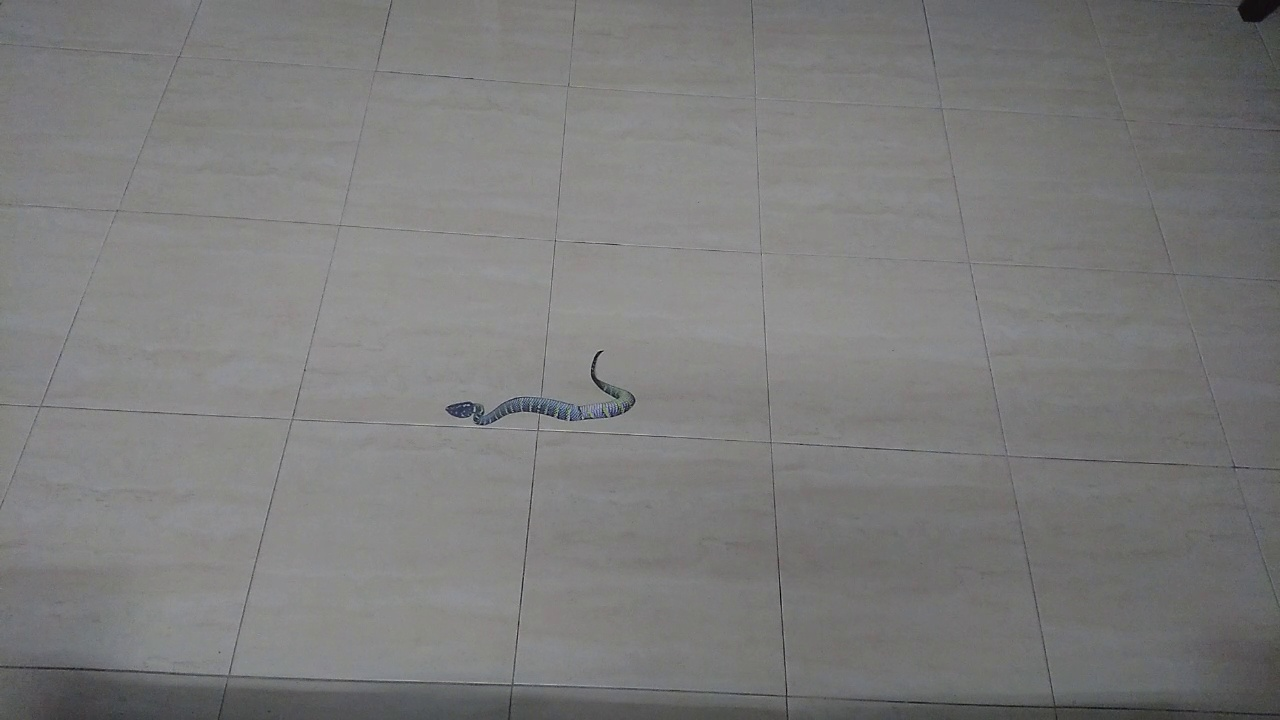snake: (427, 329, 653, 441)
